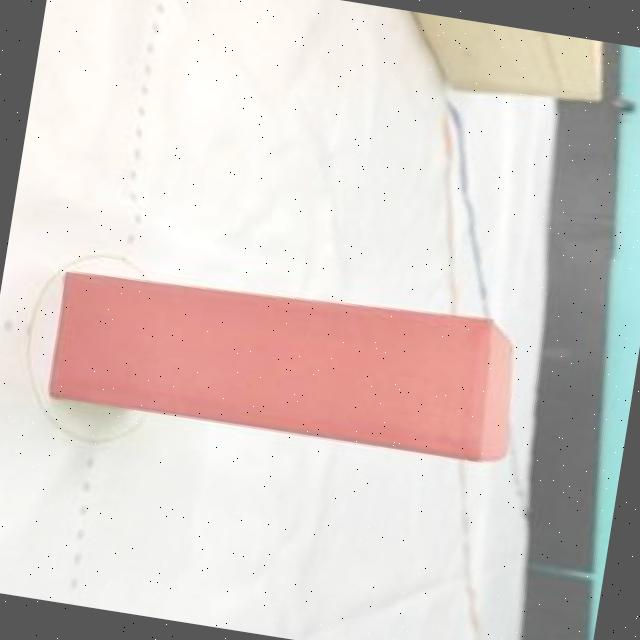redbox: (48, 250, 530, 467)
